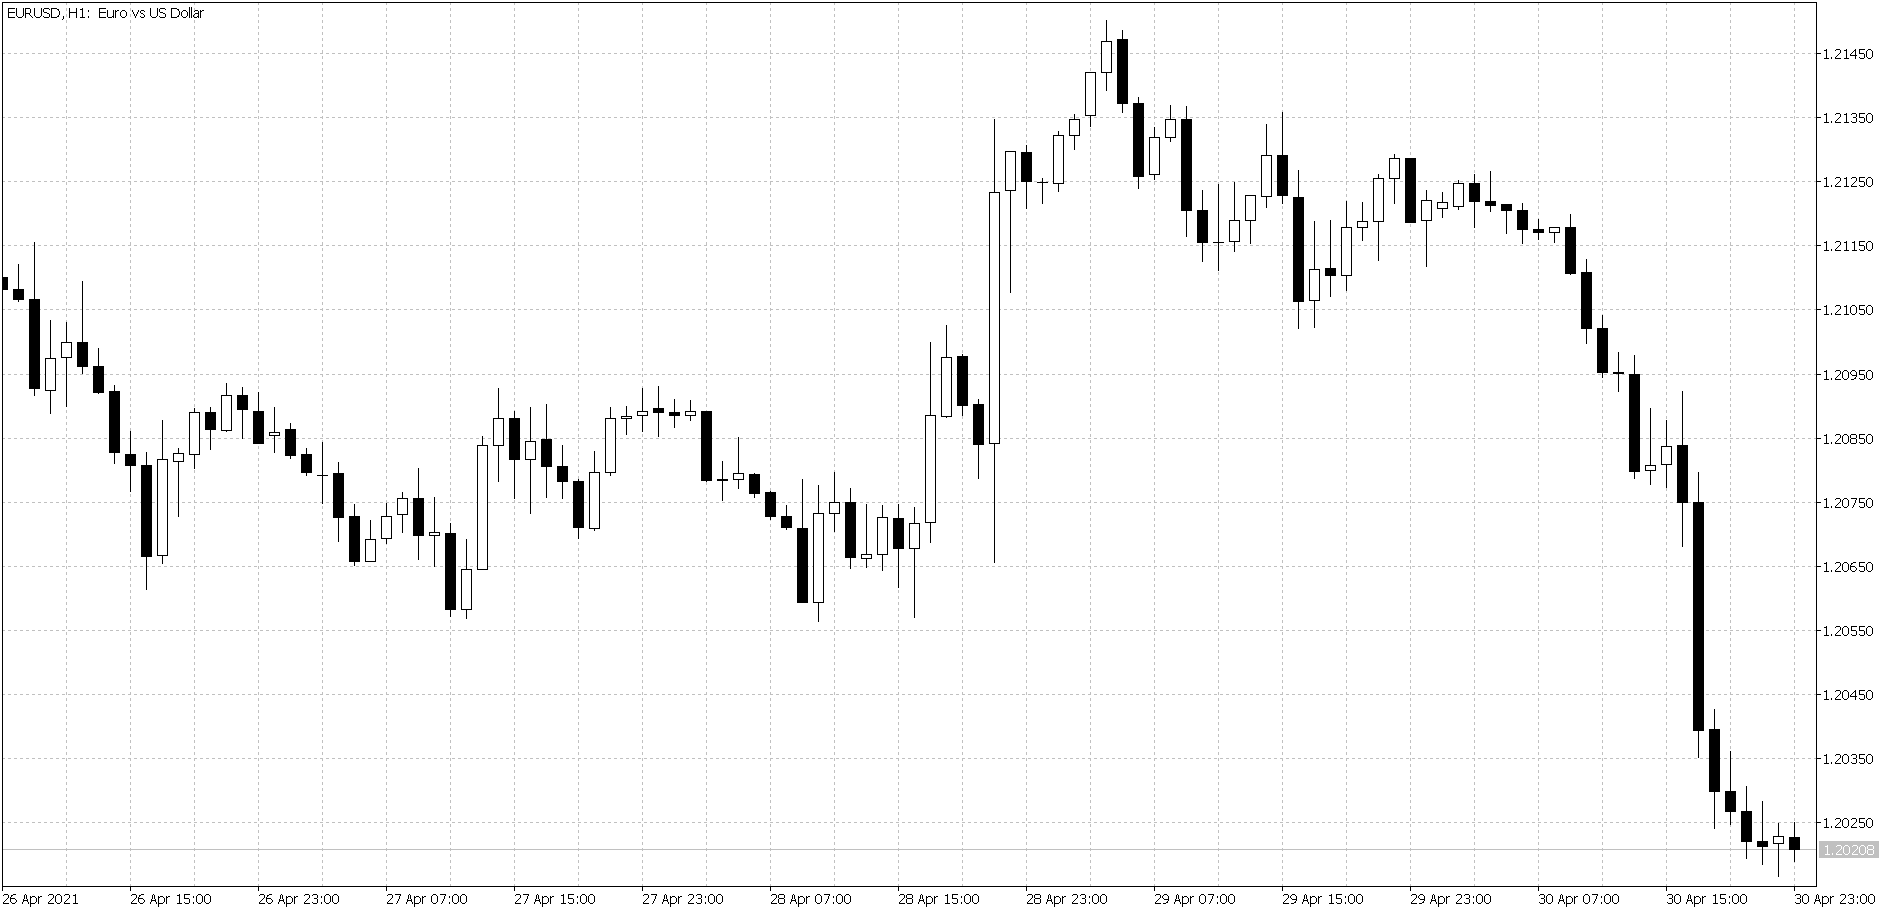bearishEngulfing: (1098, 14, 1131, 120)
morningDojiStar: (1196, 185, 1242, 272)
morningStar: (842, 481, 889, 581)
